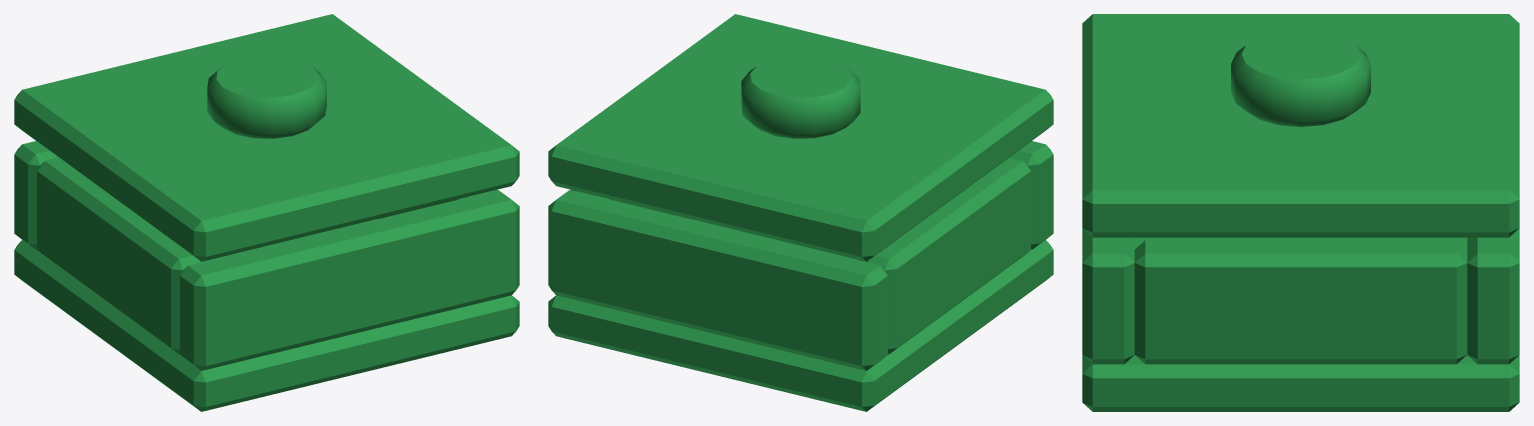
Rendered from final_product_green.glb.
The picture shows the model from 3 angles, left to right: view 1: azimuth 30°, elevation 25°; view 2: azimuth 150°, elevation 25°; view 3: azimuth 270°, elevation 25°; orthographic projection. The views are drawn at different scales.
Visible parts, largest first — view 1: Item; view 2: Item; view 3: Item.
Part boxes in pixels (x1,y1,x2,y2): Item: (14, 14, 519, 411); Item: (548, 14, 1053, 411); Item: (1082, 14, 1519, 411).
Bounding box in the file's own units: 0.25 × 0.17 × 0.25.
